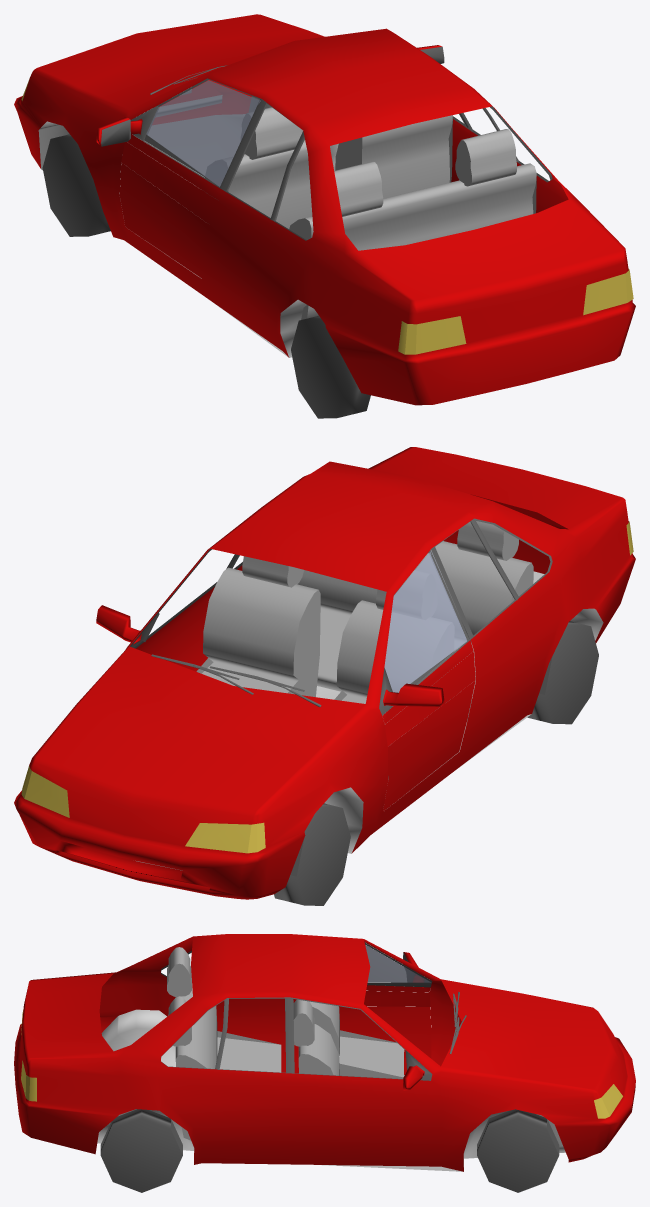
File: car.fbx
3 renders of one model, top to bottom at view 1: azimuth 30°, elevation 25°; view 2: azimuth 150°, elevation 25°; view 3: azimuth 270°, elevation 25°, orthographic. The views are drawn at different scales.
Visible parts, largest first — view 1: BackLight1, door1, polySurface671, pCylinder3, pCylinder4, UnderCar1, Wheel2, Wheel1, polySurface670, polySurface672, BackLight2, polySurface667; view 2: BackLight1, door1, pCylinder4, polySurface671, pCylinder3, Wheel1, Wheel2, UnderCar1, HeadLight1, polySurface672, HeadLight2, Plastik4 (+1 smaller); view 3: BackLight1, door1, Wheel3, Wheel4, polySurface671, pCylinder3, UnderCar1, pCylinder4, polySurface672, Plastik2, Plastik4, HeadLight2 (+1 smaller).
Boxes of the visible parts, x1,y1,x2,y2 form: BackLight1: (14,14,635,405); door1: (96,78,262,278); polySurface671: (289,163,536,319); pCylinder3: (186,107,312,228); pCylinder4: (333,115,452,198); UnderCar1: (38,96,338,357); Wheel2: (291,315,370,418); Wheel1: (42,134,110,236); polySurface670: (455,129,516,186); polySurface672: (334,161,383,216); BackLight2: (583,268,633,315); polySurface667: (219,99,266,191); BackLight1: (14,447,635,899); door1: (379,550,475,811); pCylinder4: (196,556,320,697); polySurface671: (297,541,533,721); pCylinder3: (334,569,453,779); Wheel1: (274,803,350,905); Wheel2: (527,621,598,724); UnderCar1: (316,571,603,853); HeadLight1: (185,822,265,853); polySurface672: (457,521,518,560); HeadLight2: (21,765,69,817); Plastik4: (96,605,159,647); BackLight1: (14,934,635,1171); door1: (294,942,432,1058); Wheel3: (100,1109,182,1192); Wheel4: (477,1109,559,1192); polySurface671: (175,983,281,1140); pCylinder3: (309,1001,404,1078); UnderCar1: (97,1009,565,1171); pCylinder4: (293,999,339,1075); polySurface672: (167,947,191,996); Plastik2: (285,998,294,1073); Plastik4: (403,1050,432,1090); HeadLight2: (594,1084,622,1118).
Size of the model in its own units: 213 by 145 by 441.
